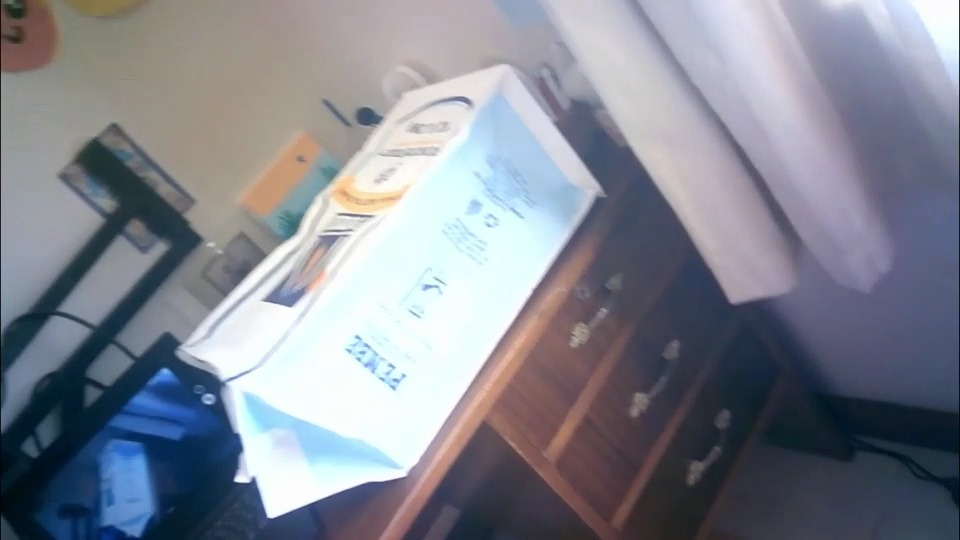wheat_flour_blue_label: (171, 66, 600, 492)
